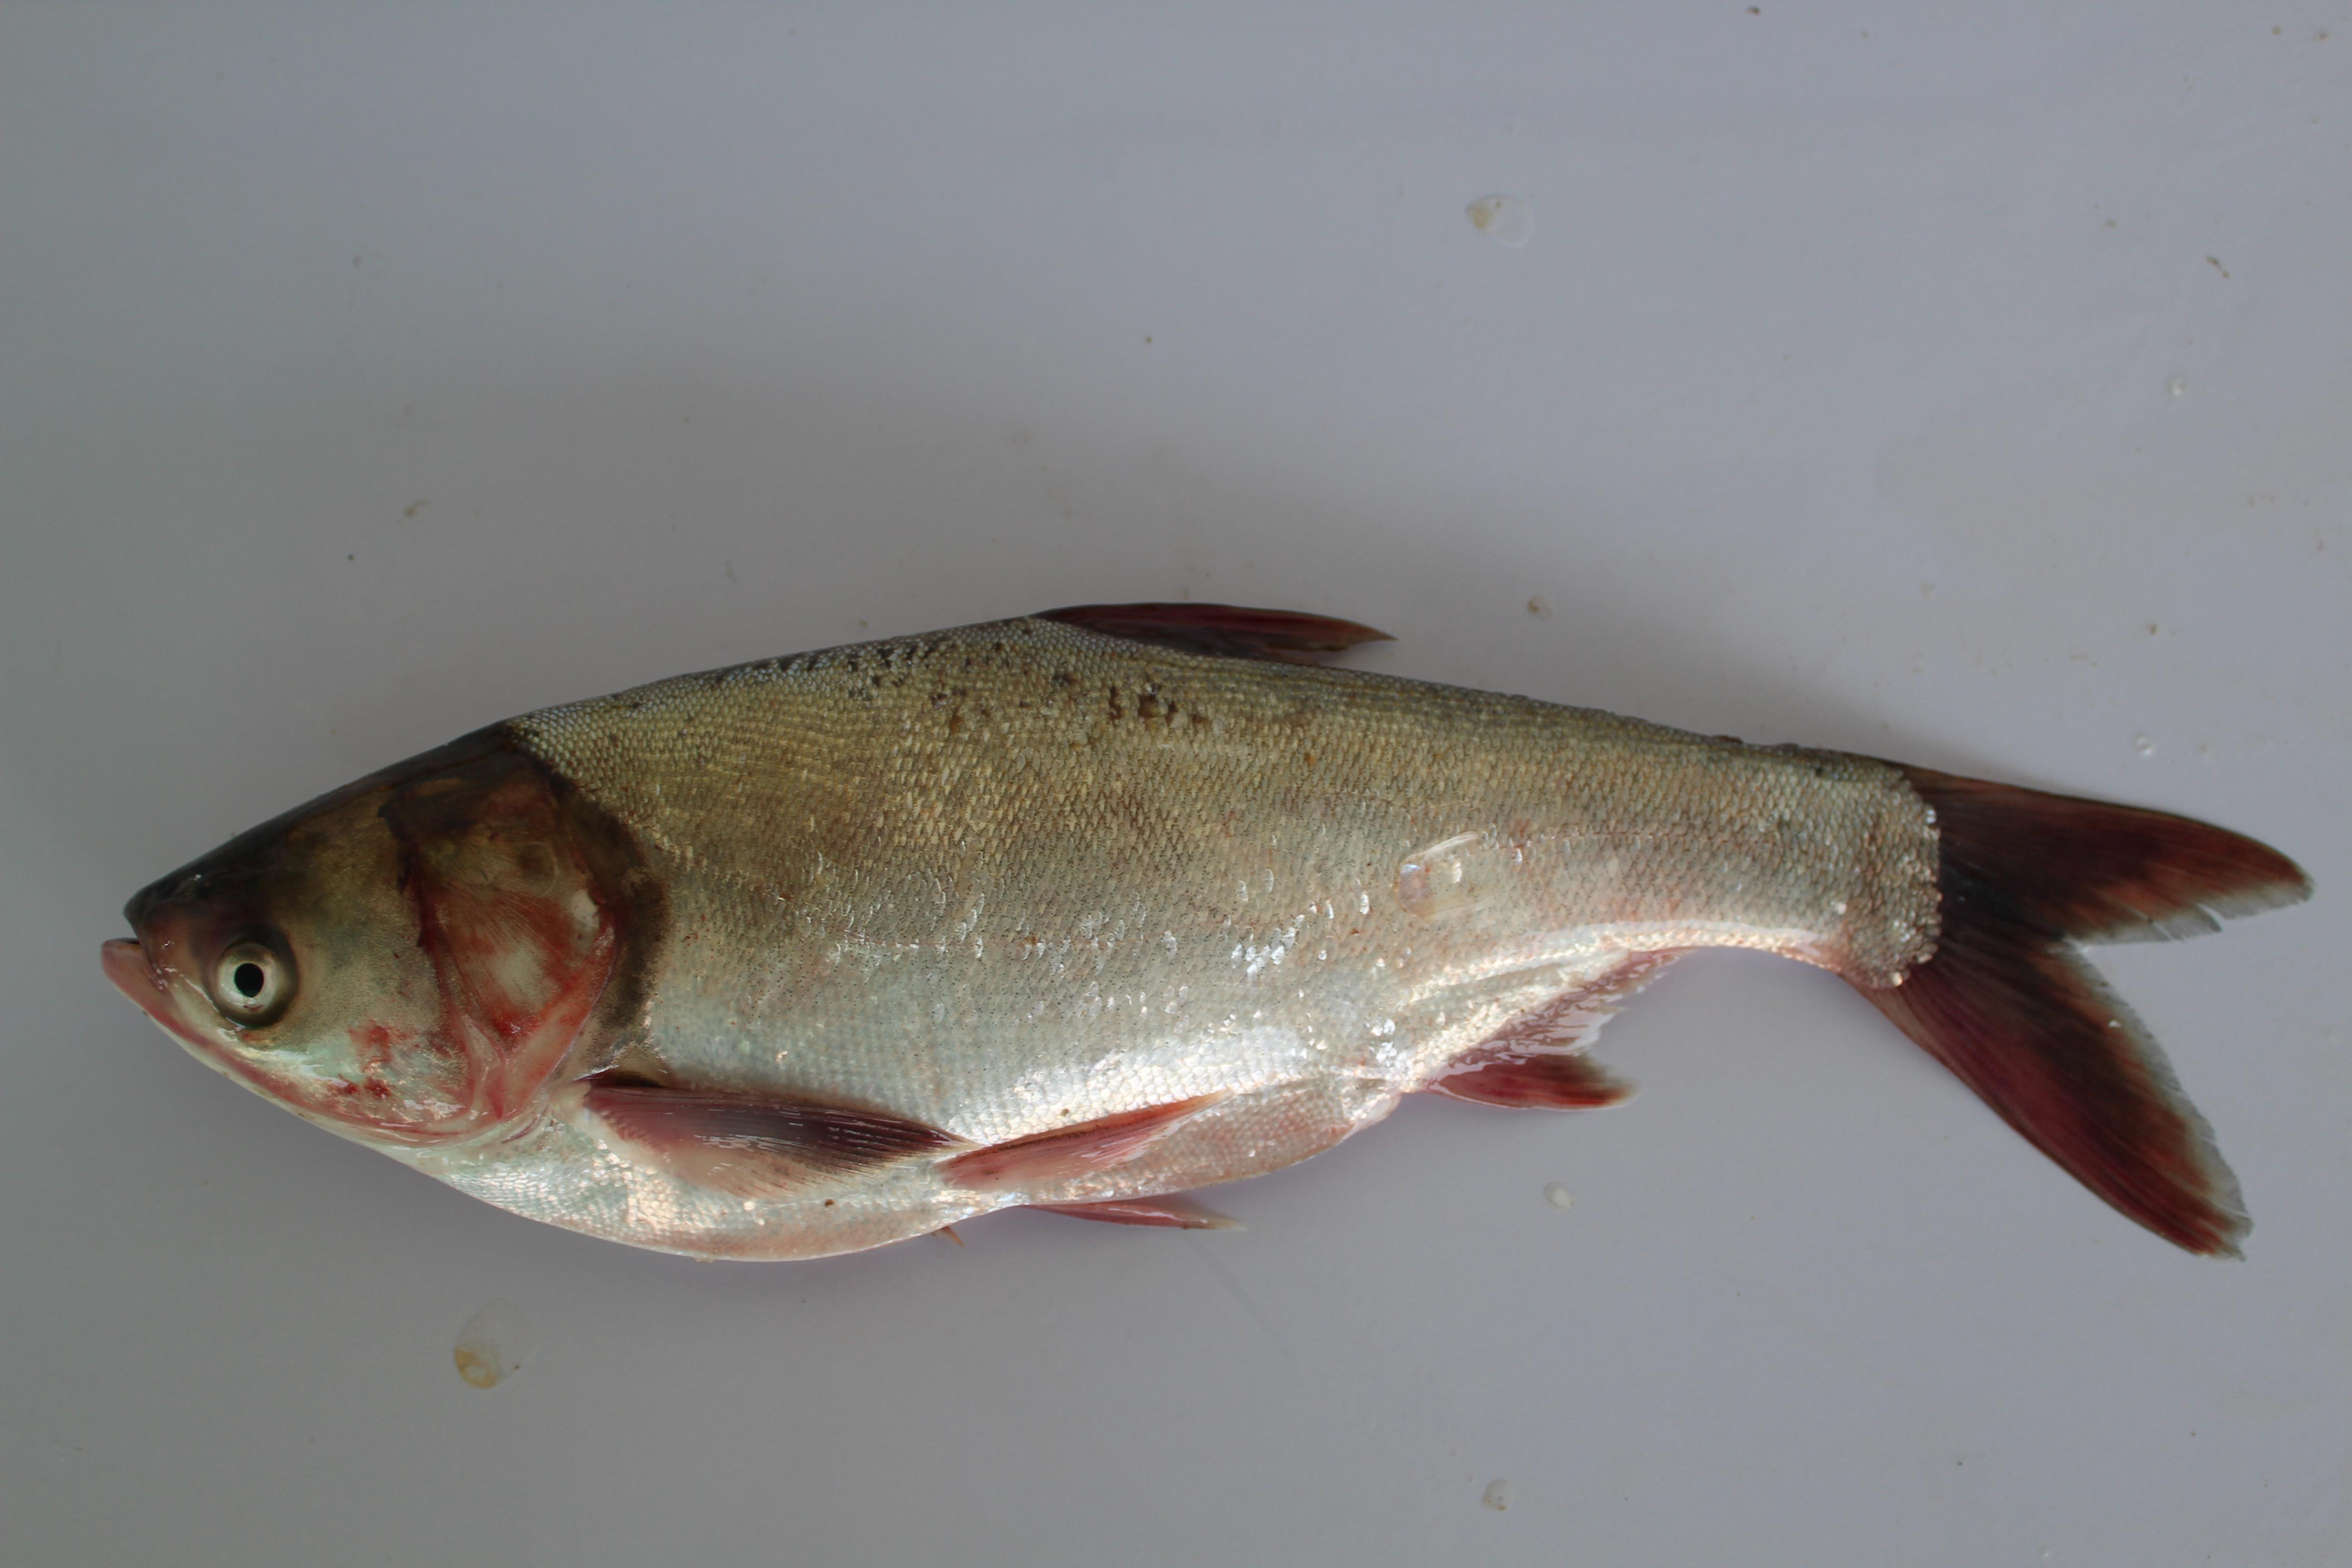Silver Carp: (133, 612, 2273, 1265)
